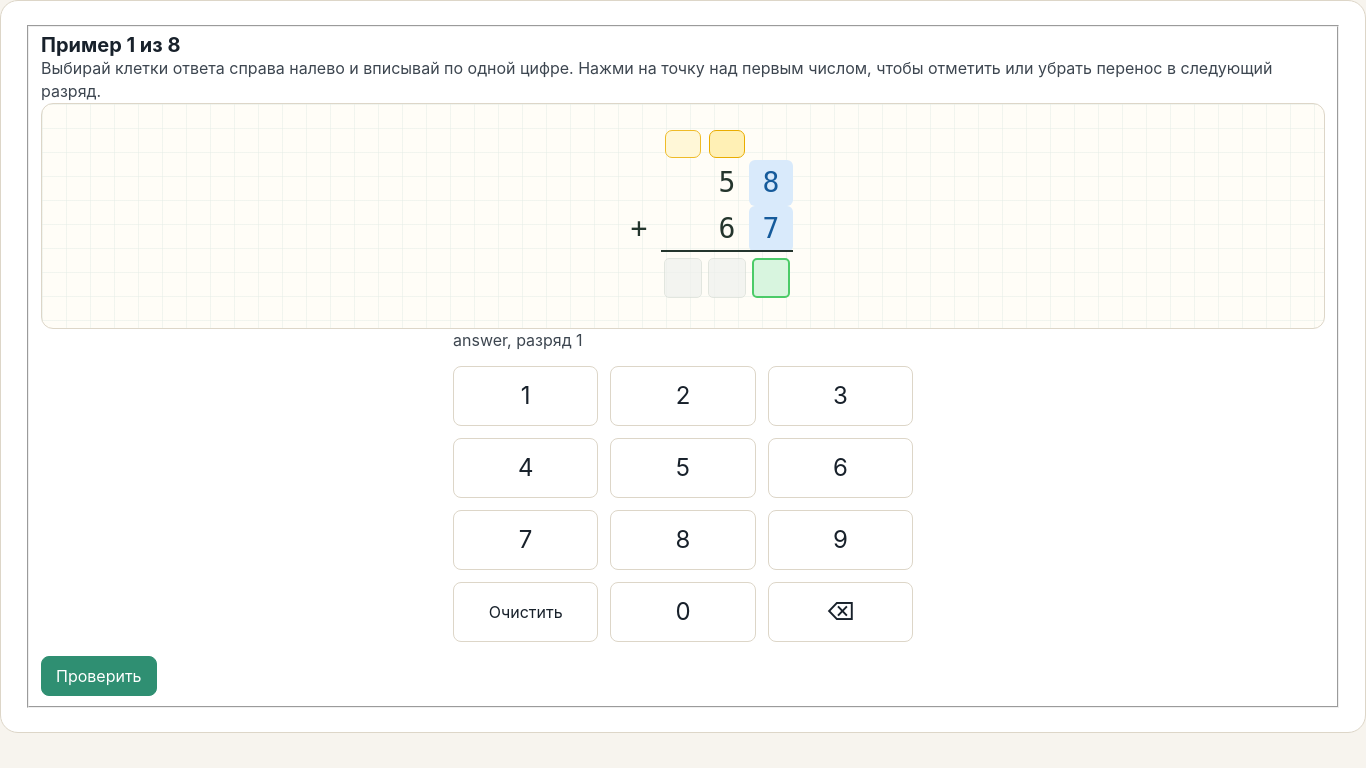
Test: rejects multi-digit paste and replaces a selected digit without concatenation
Press 5 in the field named "answer, разряд 1", box 752,258 -> 790,298
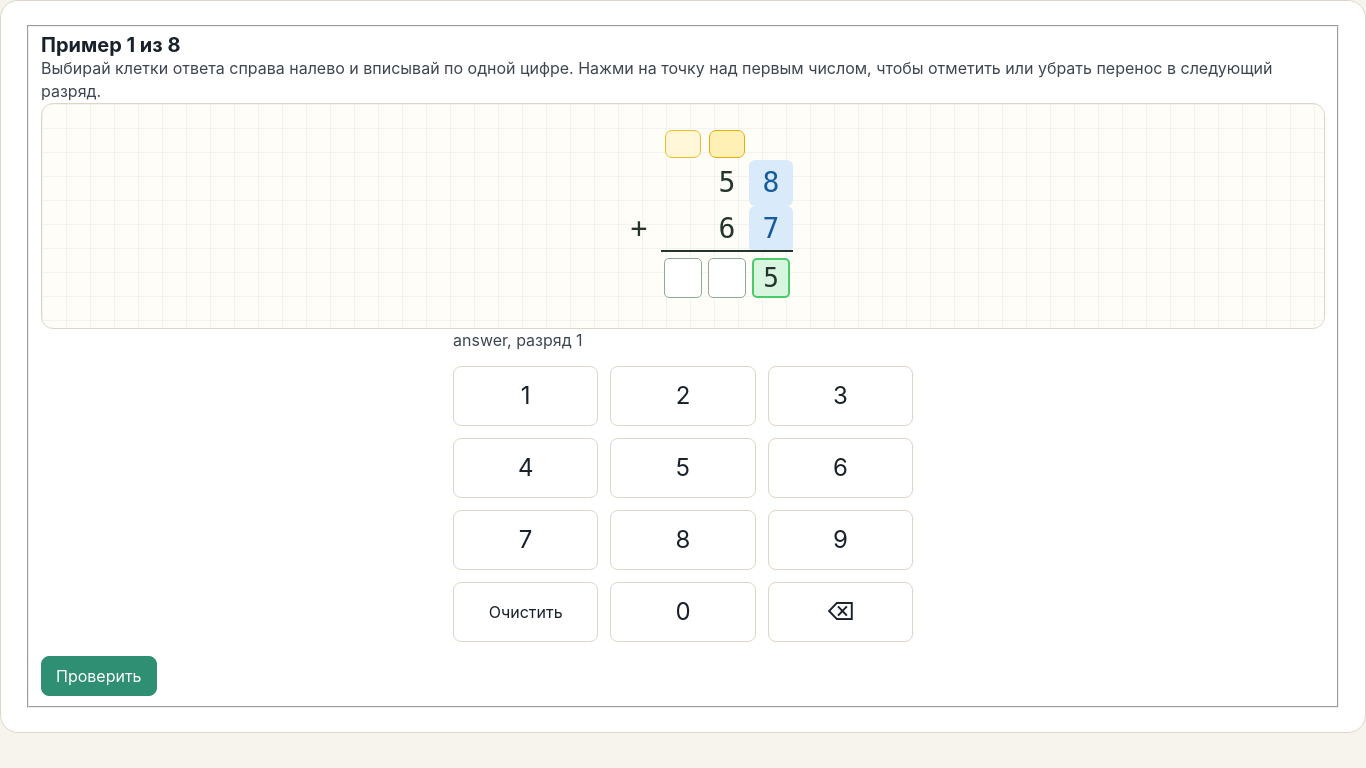
Expected: the field named "answer, разряд 1" holds "5"
Focus the field named "answer, разряд 1" at [771, 278], box 752,258 -> 790,298
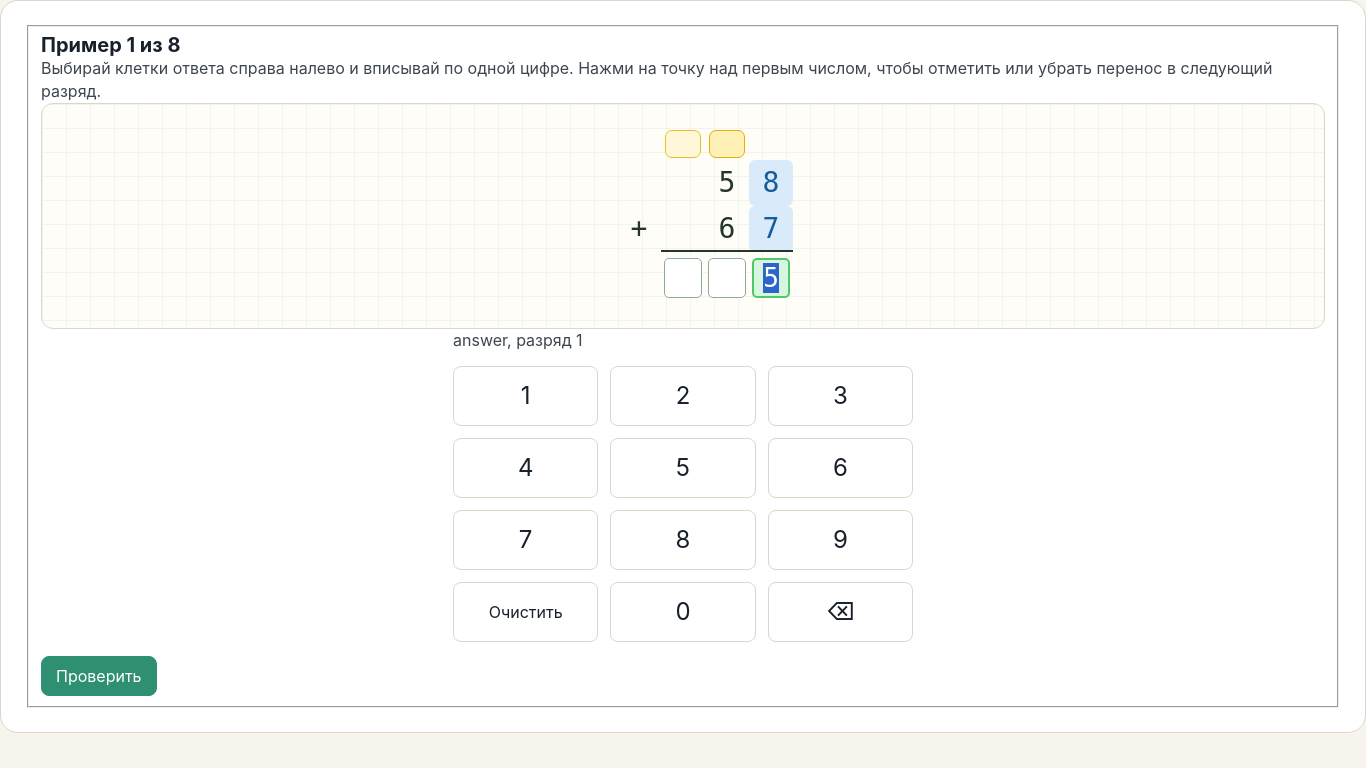
Press 6 in the field named "answer, разряд 1", box 752,258 -> 790,298
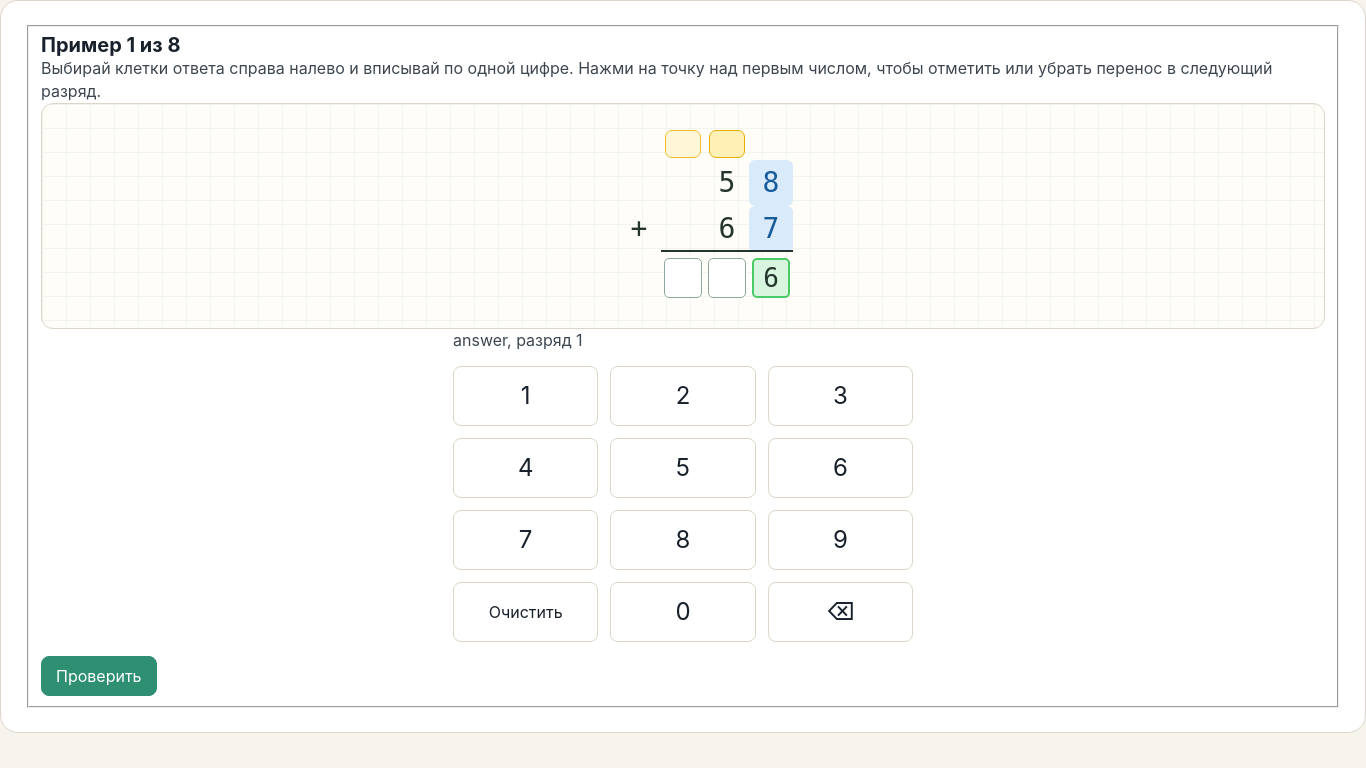
Expected: the field named "answer, разряд 1" holds "6", 752,258 -> 790,298
Click the button "Очистить" at [526, 612], box 453,582 -> 598,642
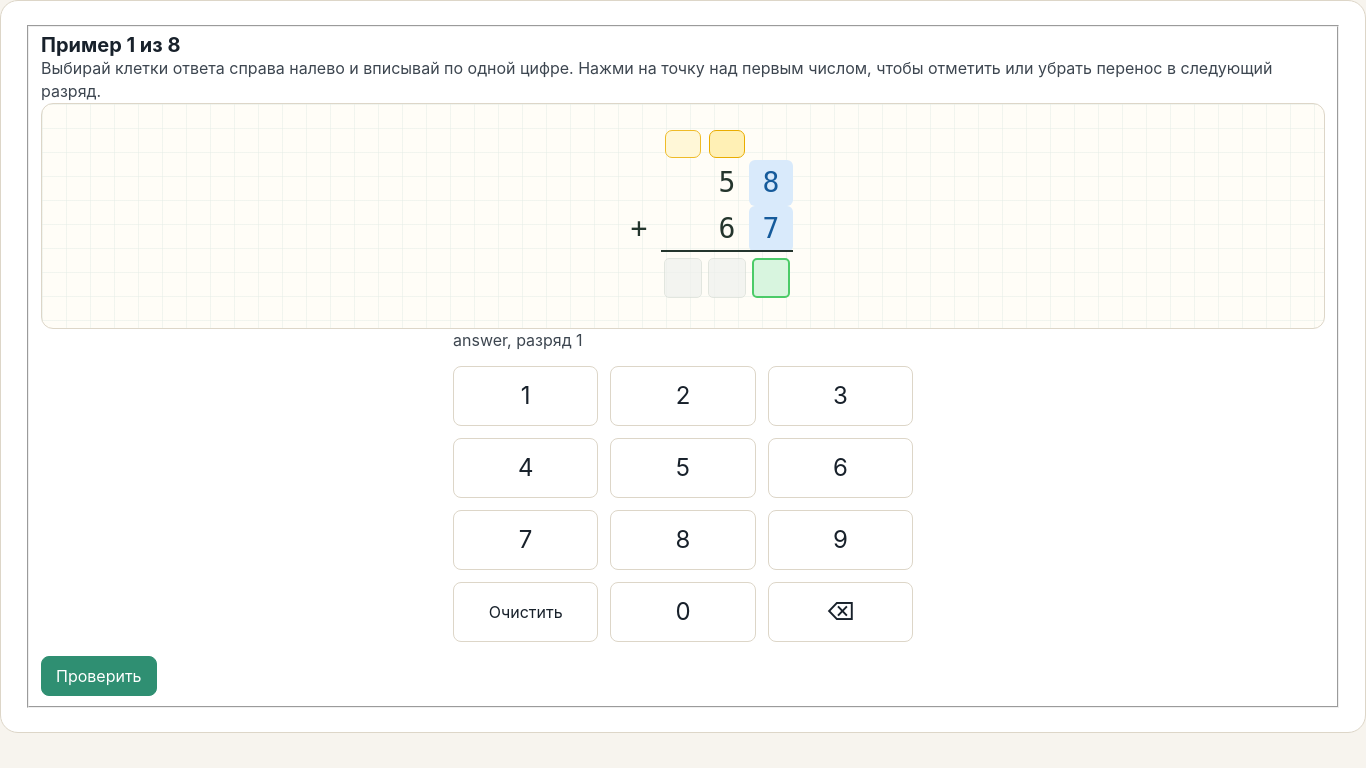
Expected: the field named "answer, разряд 1" is empty, 752,258 -> 790,298
